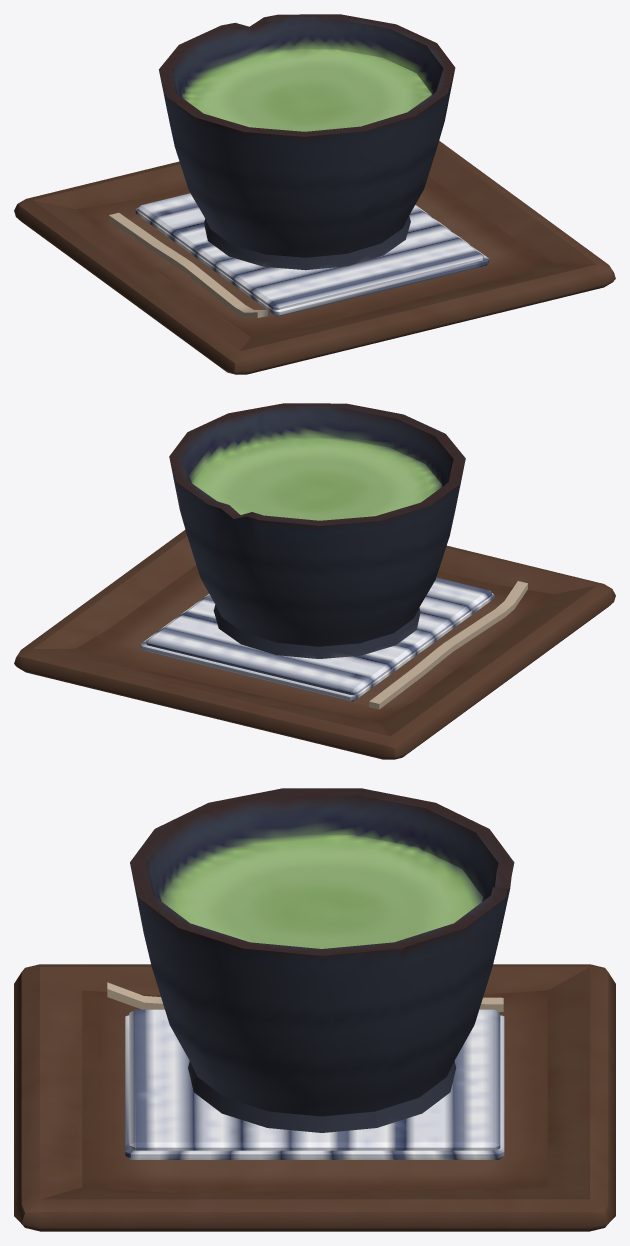
Rendered from MatchaTea-EunbyH.fbx.
The picture shows the model from 3 angles, top to bottom: view 1: azimuth 30°, elevation 25°; view 2: azimuth 150°, elevation 25°; view 3: azimuth 270°, elevation 25°; orthographic projection. The views are drawn at different scales.
Parts seen in each view (by area): view 1: Teacup_SM; view 2: Teacup_SM; view 3: Teacup_SM.
Boxes of the visible parts, x1,y1,x2,y2 form: Teacup_SM: (14, 14, 615, 374); Teacup_SM: (14, 403, 615, 759); Teacup_SM: (14, 788, 615, 1231).
Size of the model in its own units: 3.39 by 1.48 by 3.39.
